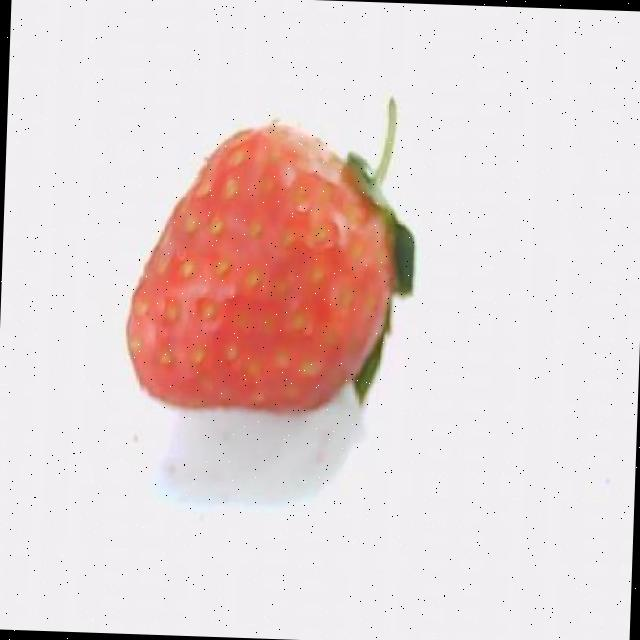strawberry: (128, 97, 412, 411)
